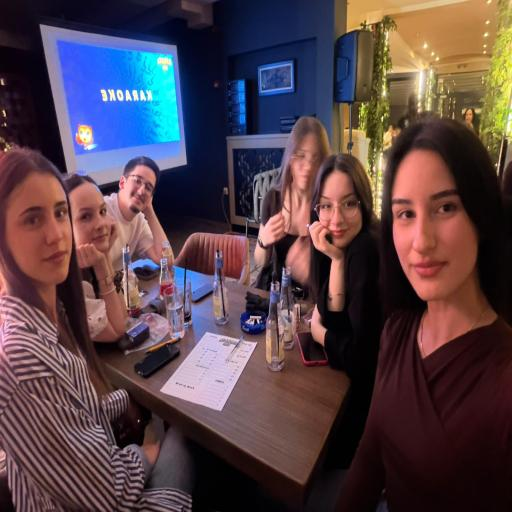marija: (73, 182, 117, 274)
masa: (6, 154, 73, 300)
